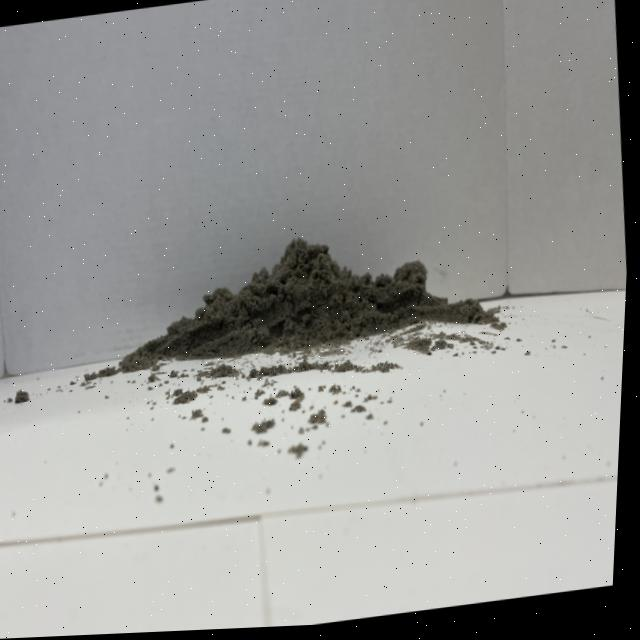sand: (139, 198, 473, 382)
